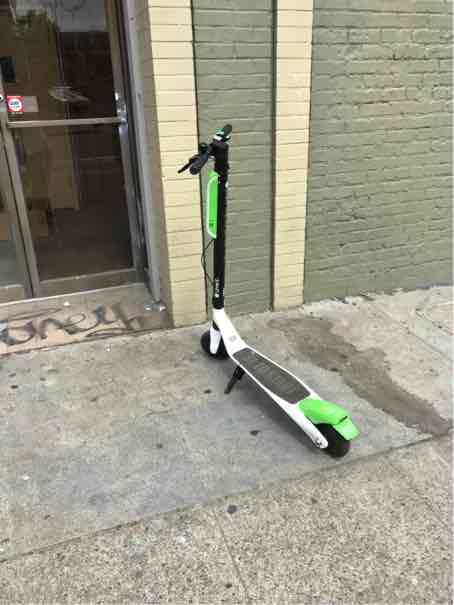scooter: (174, 120, 373, 476)
